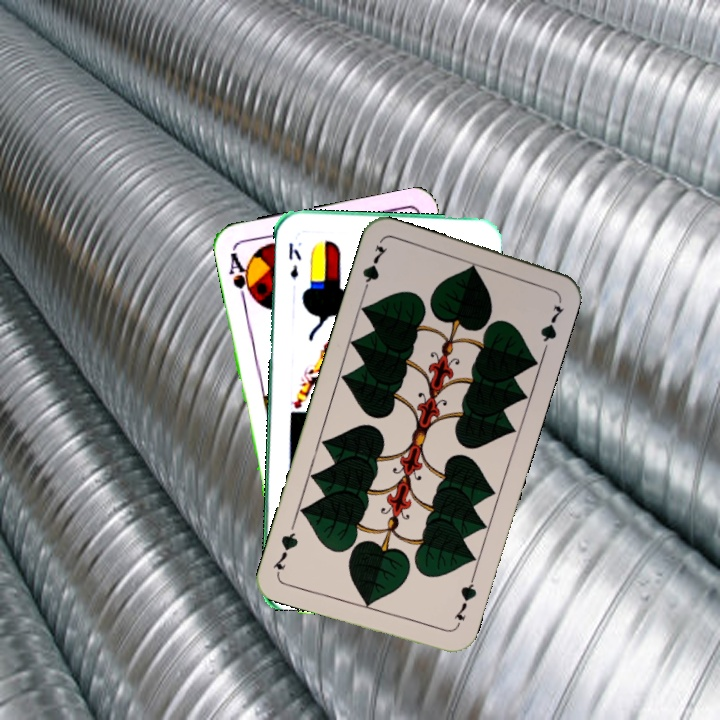EK: (284, 239, 304, 282)
G7: (358, 240, 390, 298), (449, 573, 480, 630)
SA: (225, 248, 258, 306)
